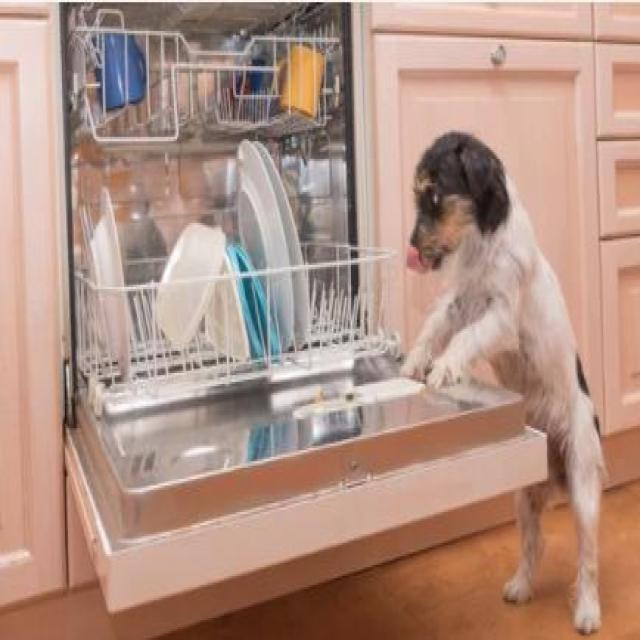dishwasher: (56, 4, 526, 585)
